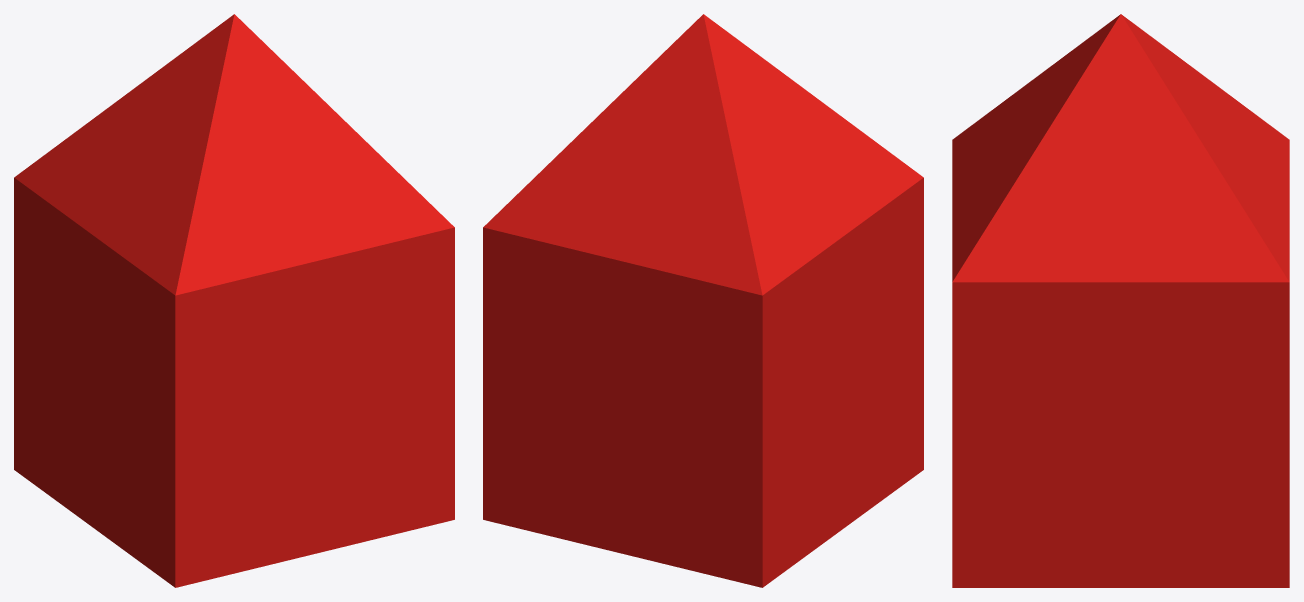
3 renders of one model, left to right at view 1: azimuth 30°, elevation 25°; view 2: azimuth 150°, elevation 25°; view 3: azimuth 270°, elevation 25°, orthographic. The views are drawn at different scales.
Visible parts, largest first — view 1: Cube; view 2: Cube; view 3: Cube.
Part boxes in pixels (x1,y1,x2,y2): Cube: (14,14,454,587); Cube: (483,14,923,587); Cube: (952,14,1289,587).
Size of the model in its own units: 2 by 3.29 by 2.
